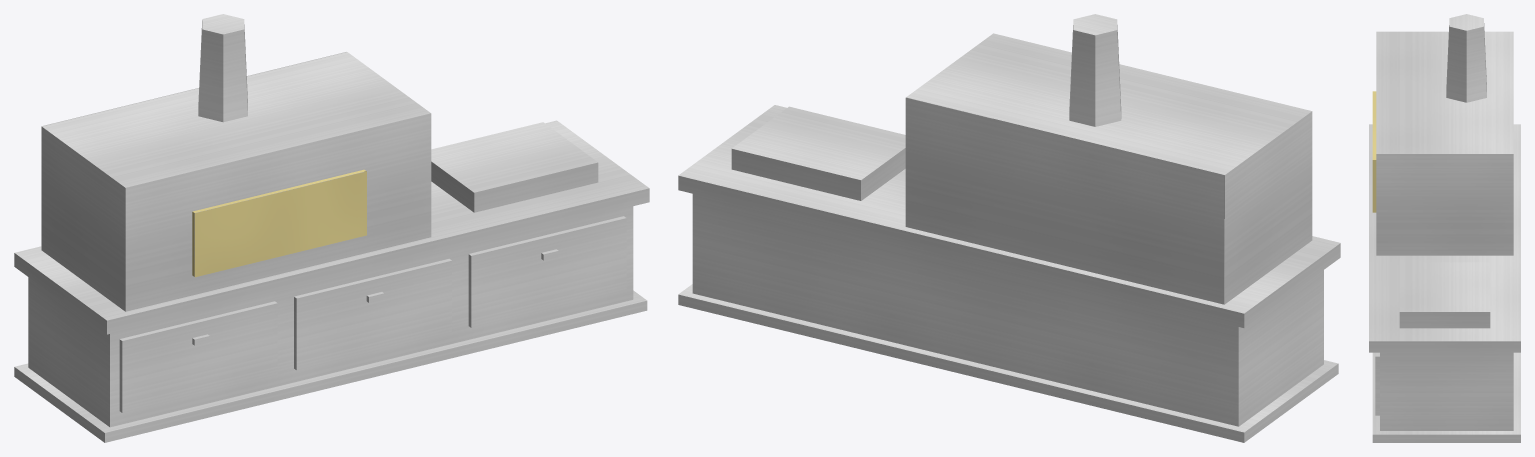
File: bench_smelter.obj
3 renders of one model, left to right at view 1: azimuth 30°, elevation 25°; view 2: azimuth 150°, elevation 25°; view 3: azimuth 270°, elevation 25°, orthographic. The views are drawn at different scales.
Visible parts, largest first — view 1: bench_smelter; view 2: bench_smelter; view 3: bench_smelter.
Part boxes in pixels (x1,y1,x2,y2): bench_smelter: [14, 14, 649, 442]; bench_smelter: [678, 14, 1340, 442]; bench_smelter: [1369, 14, 1520, 442].
Size of the model in its own units: 2.84 by 1.67 by 0.84.
